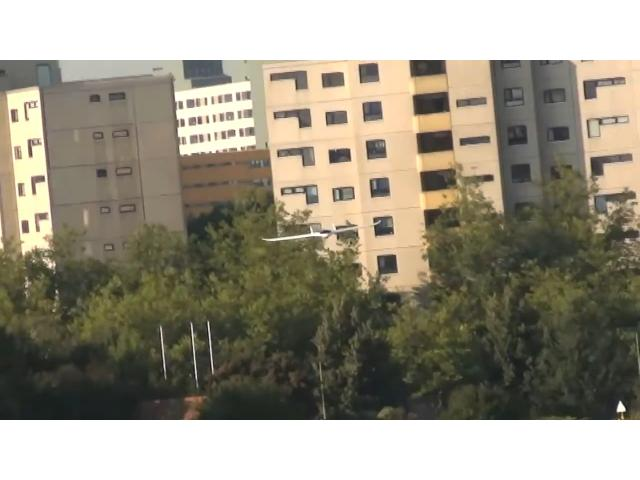Anti-Drone: (262, 221, 382, 243)
